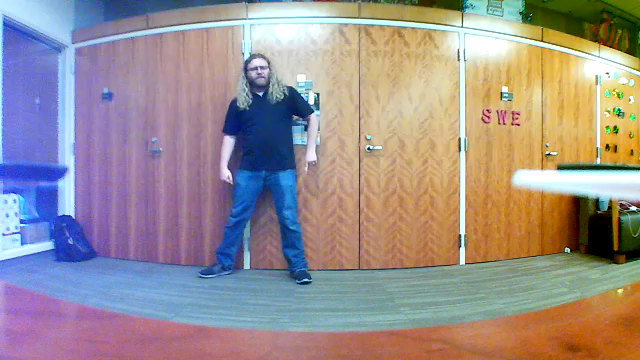down: (302, 145, 321, 180)
